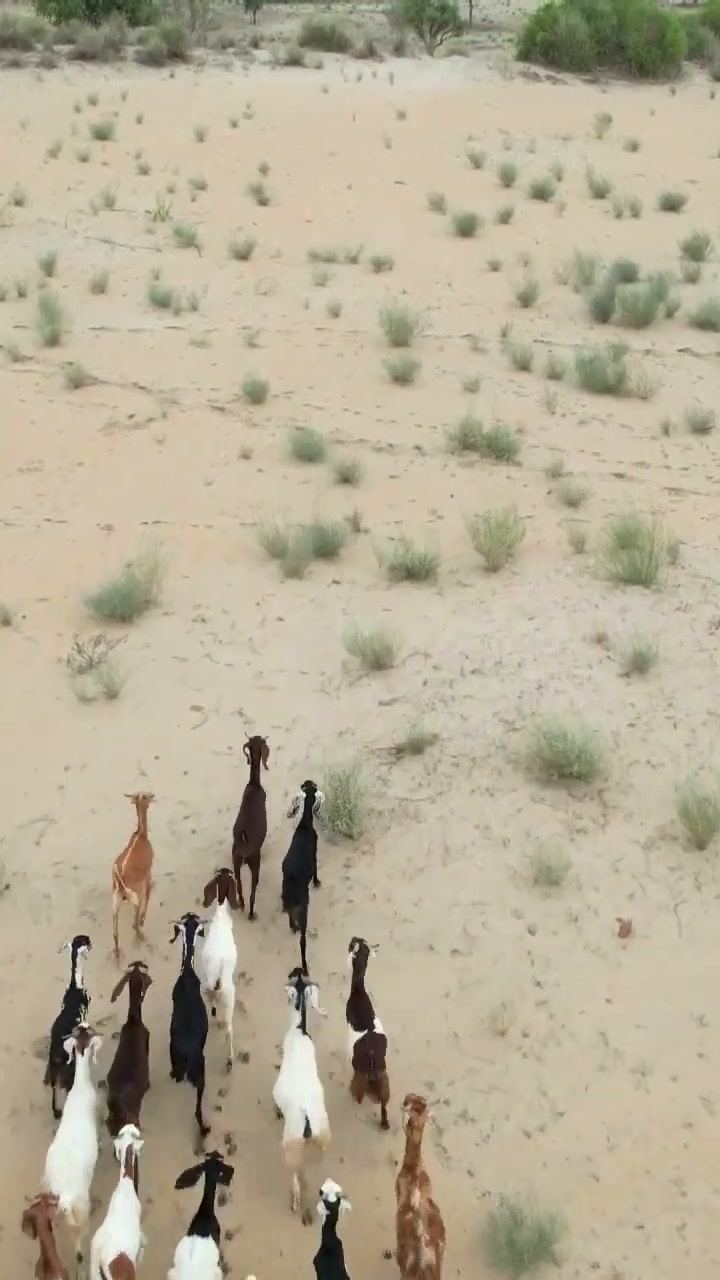animal_footprint: (209, 1037, 288, 1237)
